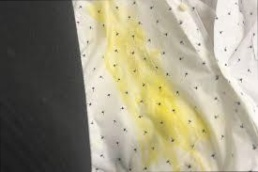mustard: (124, 54, 182, 147), (103, 7, 154, 77), (158, 96, 207, 148)
